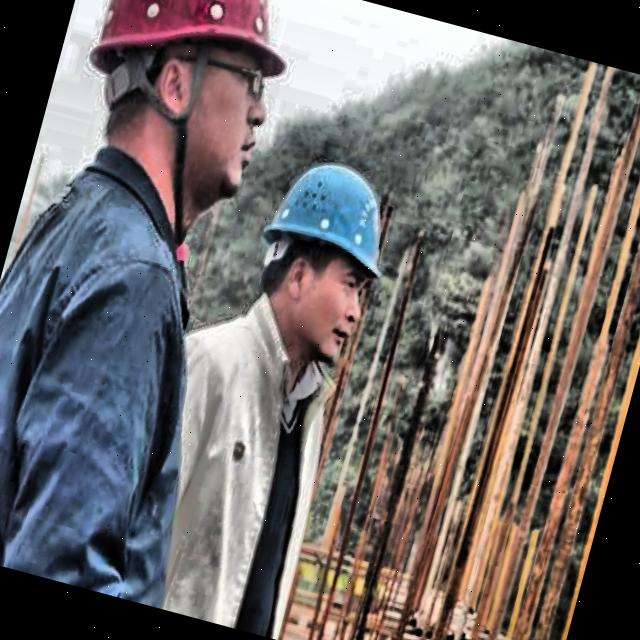helmet: (33, 0, 314, 245), (214, 122, 415, 400)
